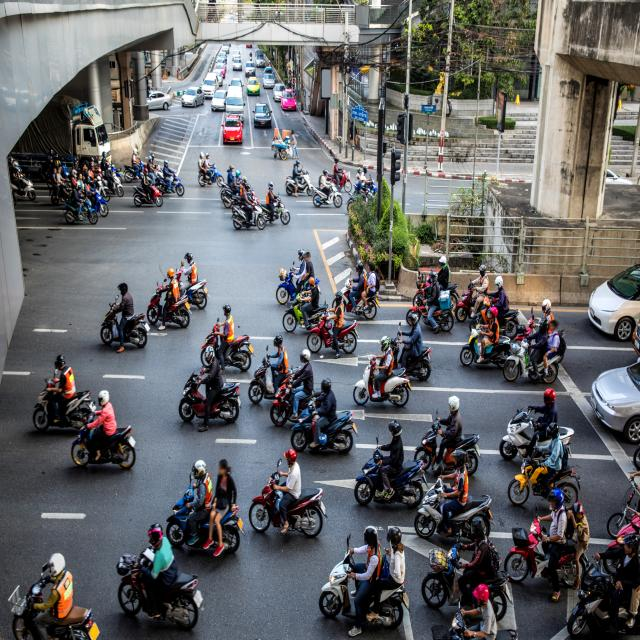car: (590, 362, 640, 444), (588, 264, 640, 341), (225, 85, 245, 120), (222, 114, 244, 144), (181, 86, 205, 107), (148, 90, 171, 111), (253, 103, 273, 127), (201, 77, 219, 97), (281, 90, 297, 111), (211, 90, 226, 112), (246, 77, 260, 96), (272, 82, 285, 101), (255, 49, 266, 68), (262, 74, 276, 88), (245, 60, 255, 77), (228, 77, 245, 87), (232, 58, 242, 71), (231, 50, 241, 60)
motorcycle: (319, 525, 410, 637), (504, 487, 591, 602), (422, 514, 514, 621), (118, 521, 204, 630), (165, 457, 244, 557), (9, 553, 99, 640), (568, 534, 640, 640), (414, 450, 497, 539), (249, 450, 326, 538), (354, 418, 429, 508), (507, 422, 581, 507), (498, 386, 576, 458), (414, 396, 481, 477), (178, 344, 240, 430), (71, 390, 136, 469), (291, 379, 358, 454), (32, 354, 95, 431), (352, 334, 410, 407), (503, 318, 566, 385), (270, 349, 321, 427), (248, 334, 301, 406), (201, 304, 254, 372), (469, 276, 526, 339), (101, 283, 150, 352), (308, 292, 356, 357), (460, 307, 510, 368), (407, 272, 454, 336), (390, 311, 431, 382), (146, 268, 190, 331), (275, 249, 322, 304), (282, 279, 330, 332), (340, 262, 379, 319), (455, 264, 489, 322), (176, 253, 211, 309), (231, 184, 266, 231), (259, 182, 290, 225), (312, 168, 342, 208), (133, 167, 162, 206), (285, 160, 314, 198), (155, 160, 185, 196), (198, 152, 225, 188), (329, 156, 352, 193), (354, 166, 378, 195)
